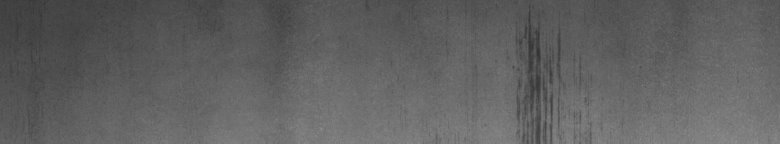ka: (517, 6, 584, 136)
